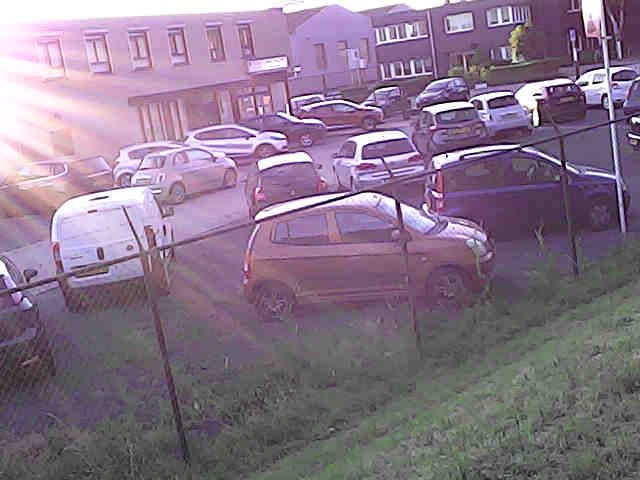suv: (243, 192, 494, 319), (424, 145, 564, 232), (0, 156, 112, 216), (132, 146, 237, 203), (333, 130, 424, 190), (245, 152, 327, 217), (0, 291, 55, 386), (412, 102, 488, 154), (515, 78, 586, 126), (184, 124, 287, 157), (113, 141, 183, 186), (241, 112, 326, 147), (470, 91, 531, 136), (299, 100, 383, 130), (416, 77, 469, 109), (362, 86, 410, 118), (576, 68, 608, 108), (290, 93, 325, 115), (623, 78, 639, 114), (627, 114, 639, 150)
whitevan: (51, 187, 174, 310)
